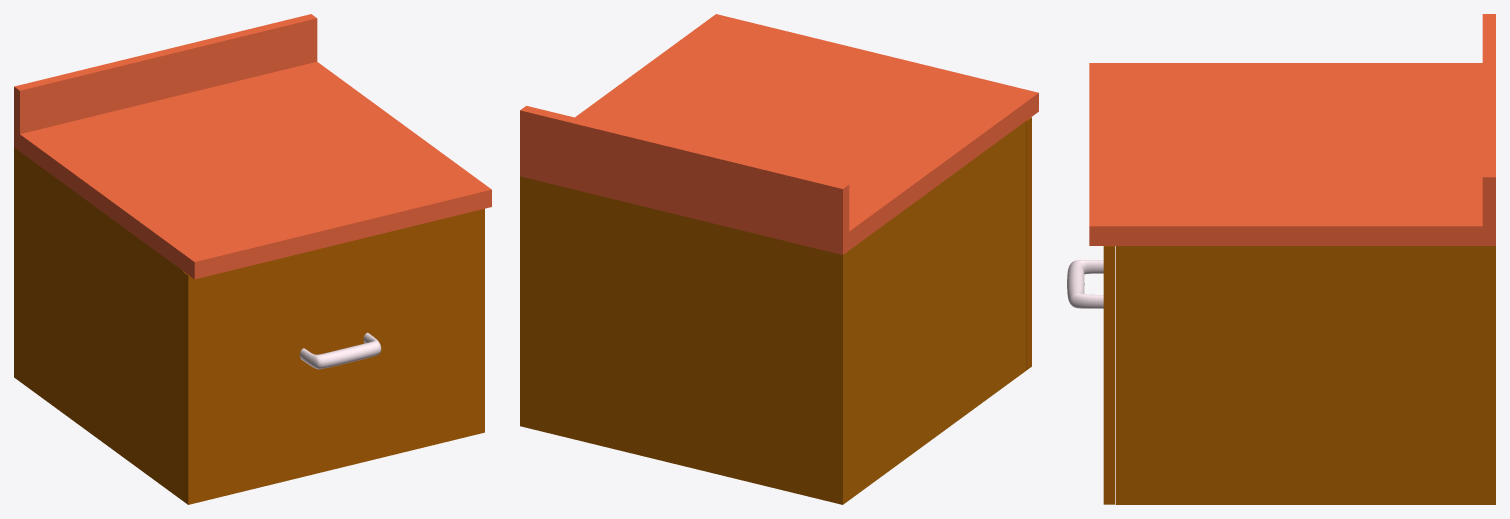
File: counter.fbx
3 views of the same model, side by side, from view 1: azimuth 30°, elevation 25°; view 2: azimuth 150°, elevation 25°; view 3: azimuth 270°, elevation 25° (orthographic). The views are drawn at different scales.
Parts seen in each view (by area): view 1: Countertop1, Cabinet1_Door, Cabinet1, Handle; view 2: Cabinet1, Countertop1, Cabinet1_Door; view 3: Cabinet1, Countertop1, Cabinet1_Door, Handle.
Boxes of the visible parts, left/top/right/bottom form: Countertop1: left=14, top=14, right=491, bottom=279; Cabinet1_Door: left=183, top=208, right=484, bottom=504; Cabinet1: left=14, top=147, right=183, bottom=500; Handle: left=300, top=332, right=381, bottom=369; Cabinet1: left=520, top=121, right=1025, bottom=504; Countertop1: left=520, top=14, right=1038, bottom=254; Cabinet1_Door: left=1026, top=117, right=1031, bottom=370; Cabinet1: left=1115, top=246, right=1495, bottom=504; Countertop1: left=1089, top=14, right=1495, bottom=245; Cabinet1_Door: left=1103, top=246, right=1114, bottom=504; Handle: left=1067, top=260, right=1103, bottom=308.
Size of the model in its own units: 60 by 56.1 by 66.56.
